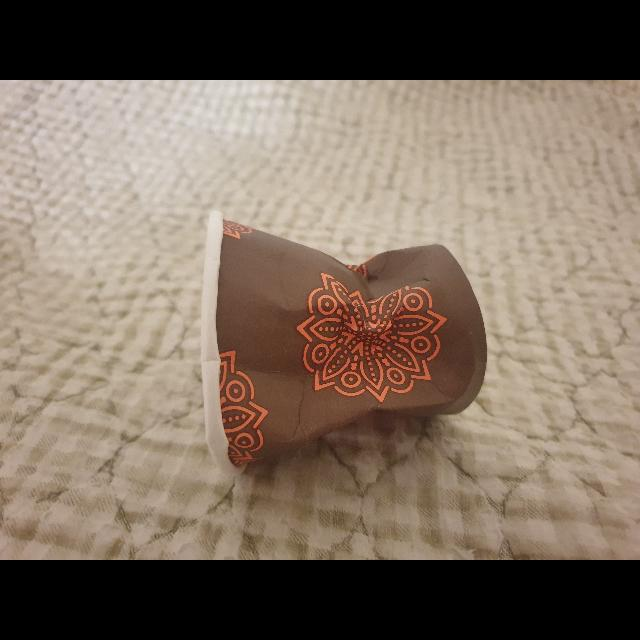trash: (197, 207, 491, 475)
